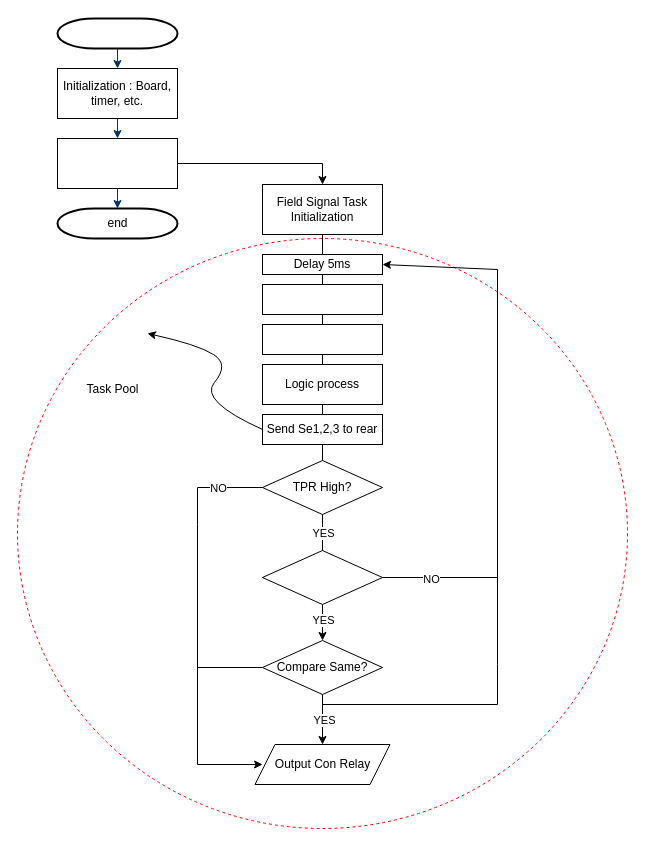
Some shapes in this 645 by 846 pixel diagram are drawn without their labels. The shapes that lost their labels are listed below. From the top down, each one's centre as x and y in pixels, then its label:
At (117,33): "start".
At (117,163): "Initialization : task, queue, semaphore.".
At (322,299): "Read TPR".
At (322,339): "Read LMR".
At (322,577): "Relay Changed?".
